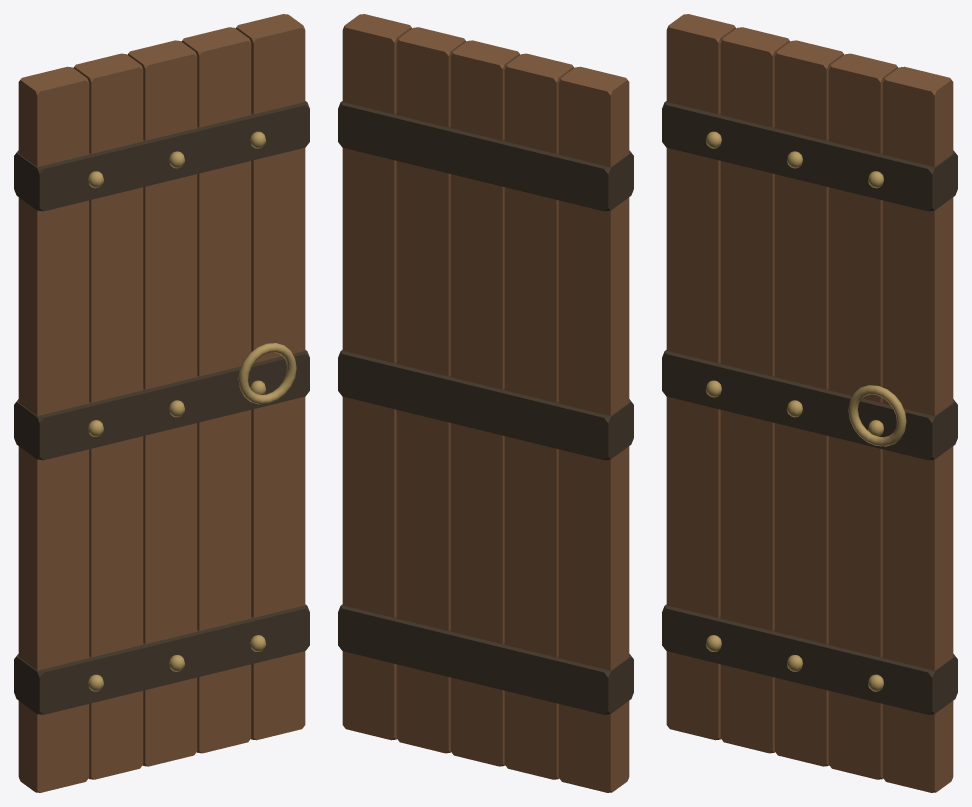
File: night_door.glb
3 renders of one model, left to right at view 1: azimuth 30°, elevation 25°; view 2: azimuth 150°, elevation 25°; view 3: azimuth 330°, elevation 25°, orthographic.
Parts seen in each view (by area): view 1: GateLeaf; view 2: GateLeaf; view 3: GateLeaf.
Boxes of the visible parts, <box> form: GateLeaf: <box>14,14,309,792</box>; GateLeaf: <box>338,14,633,792</box>; GateLeaf: <box>662,14,957,792</box>.
Size of the model in its own units: 0.5 by 1.24 by 0.11.
